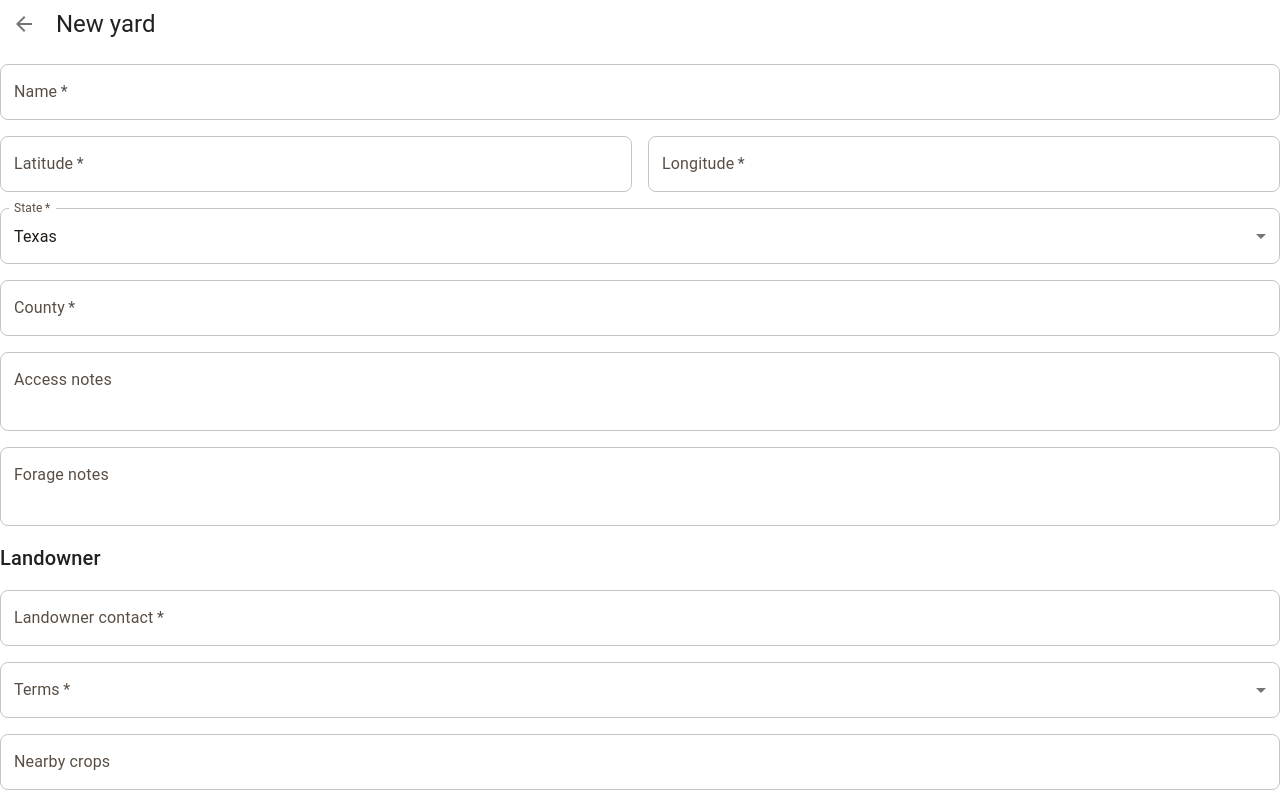
YardForm › should explain the server is not ready and stay on the form when the server has no sign-in (so no account)
Type "Pecan Bottom" into the field labelled "Name *" at (640, 92), box [0, 64, 1279, 120]
(page scrolled)
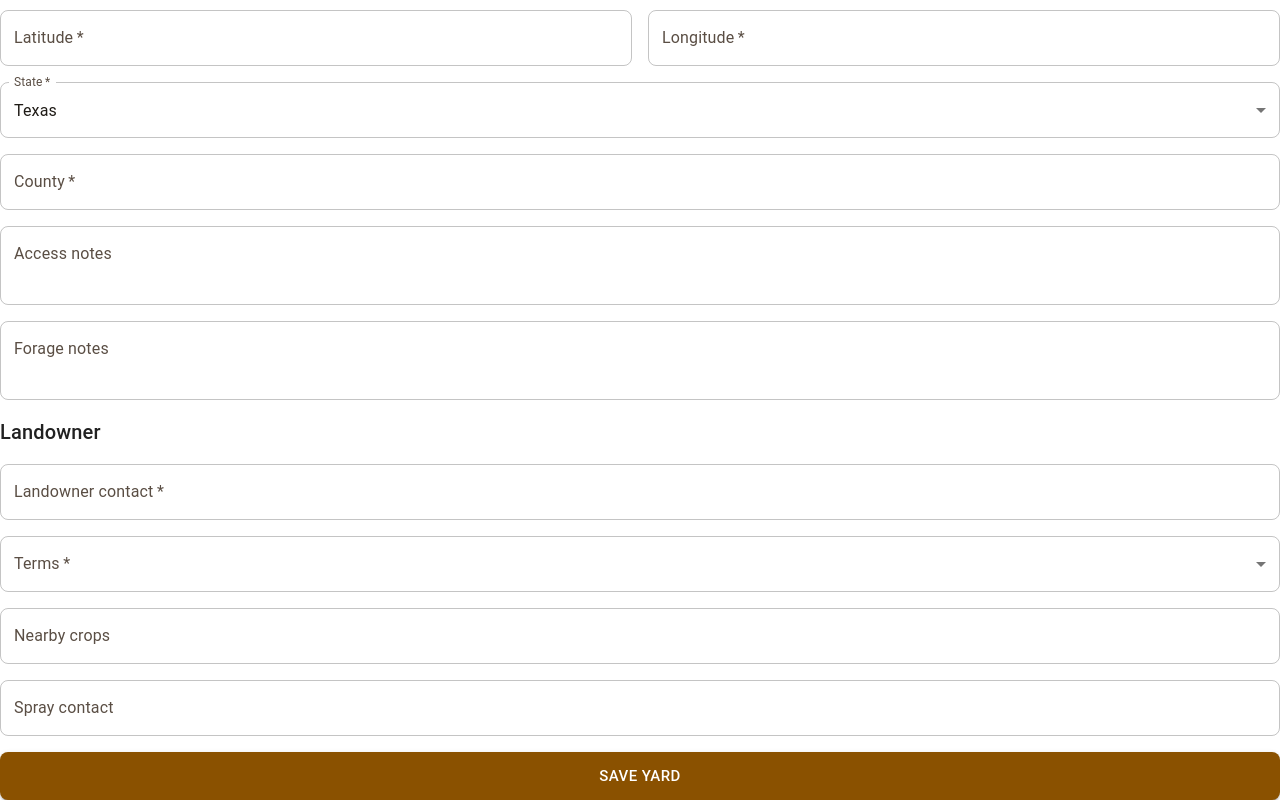
Click the button "Save yard" at (640, 776), box [0, 752, 1279, 799]
(page scrolled)
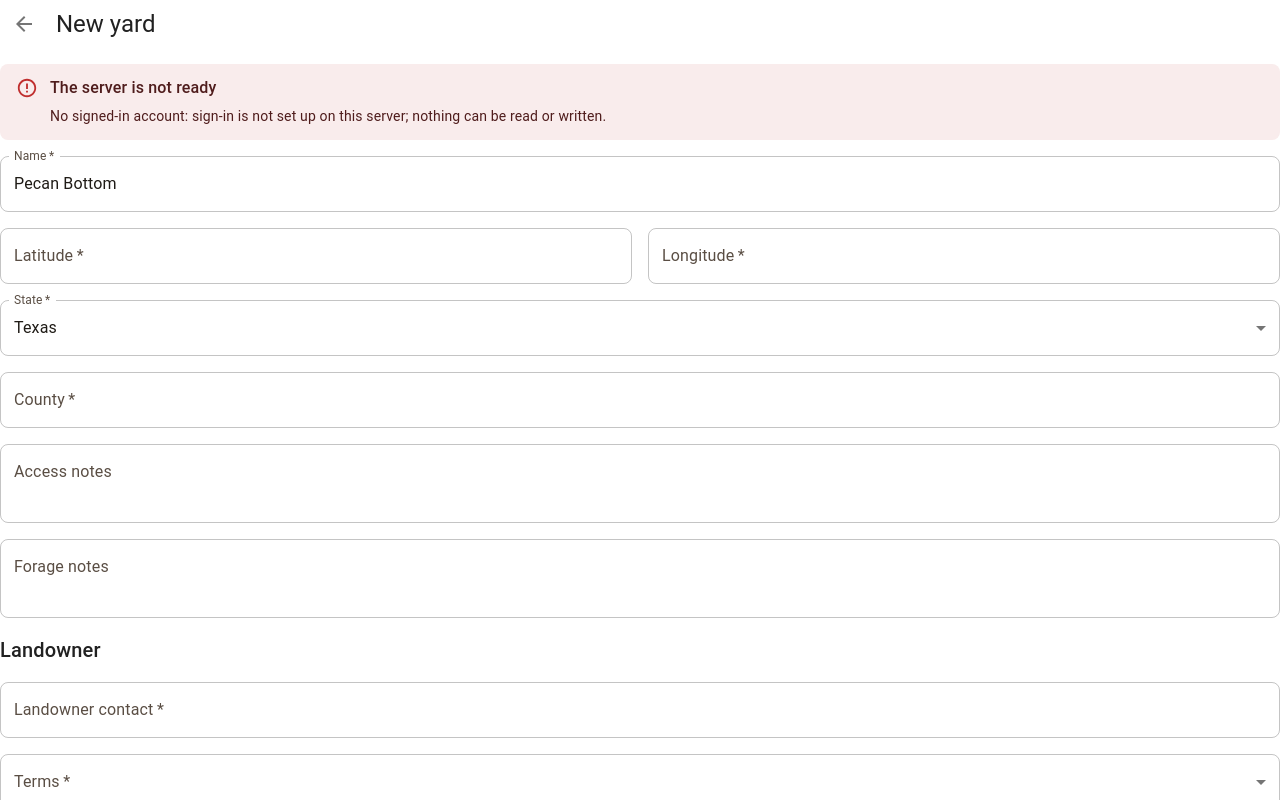
expect the heading "The server is not ready" is shown: met, box [50, 78, 216, 97]
